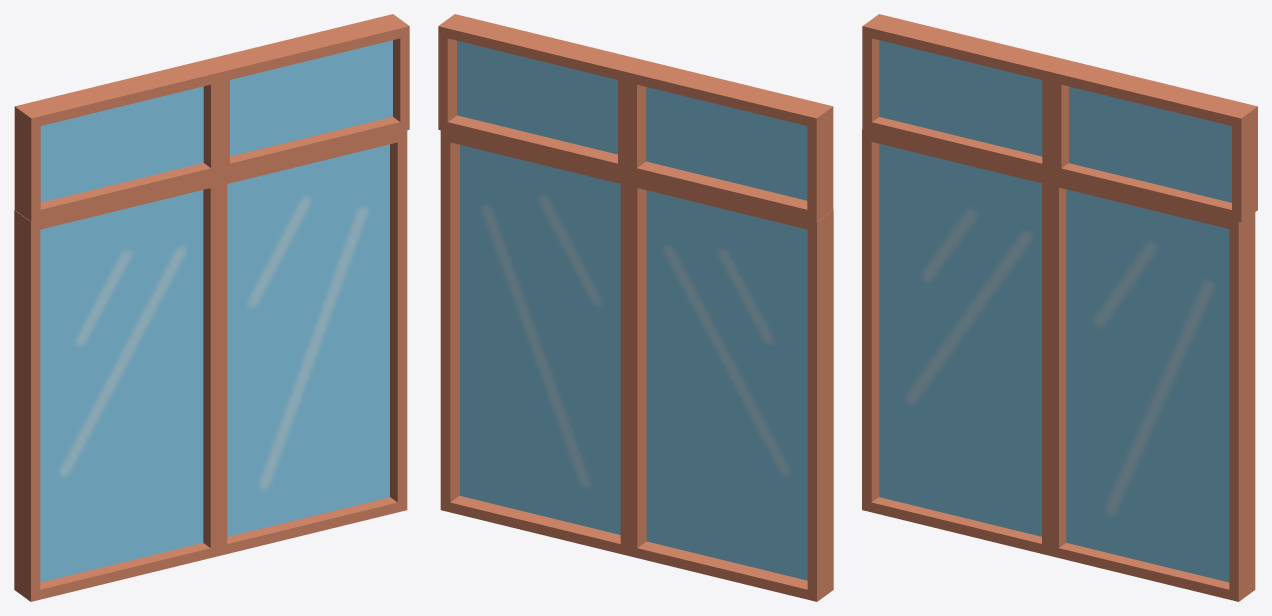
The model's file is door.fbx.
The picture shows the model from 3 angles, left to right: view 1: azimuth 30°, elevation 25°; view 2: azimuth 150°, elevation 25°; view 3: azimuth 330°, elevation 25°; orthographic projection.
Visible parts, largest first — view 1: door_right, door_left, door_top_glass; view 2: door_right, door_left, door_top_glass; view 3: door_left, door_right, door_top_glass.
Part boxes in pixels (box(x1,y1,x2,y2)): door_right: box(14, 176, 219, 601); door_left: box(218, 130, 407, 555); door_top_glass: box(14, 14, 409, 221); door_right: box(628, 176, 833, 601); door_left: box(440, 130, 629, 556); door_top_glass: box(438, 14, 833, 221); door_left: box(1049, 175, 1255, 601); door_right: box(862, 129, 1049, 555); door_top_glass: box(862, 14, 1257, 222).
Bounding box in the file's own units: 924 × 1127 × 70.21.
